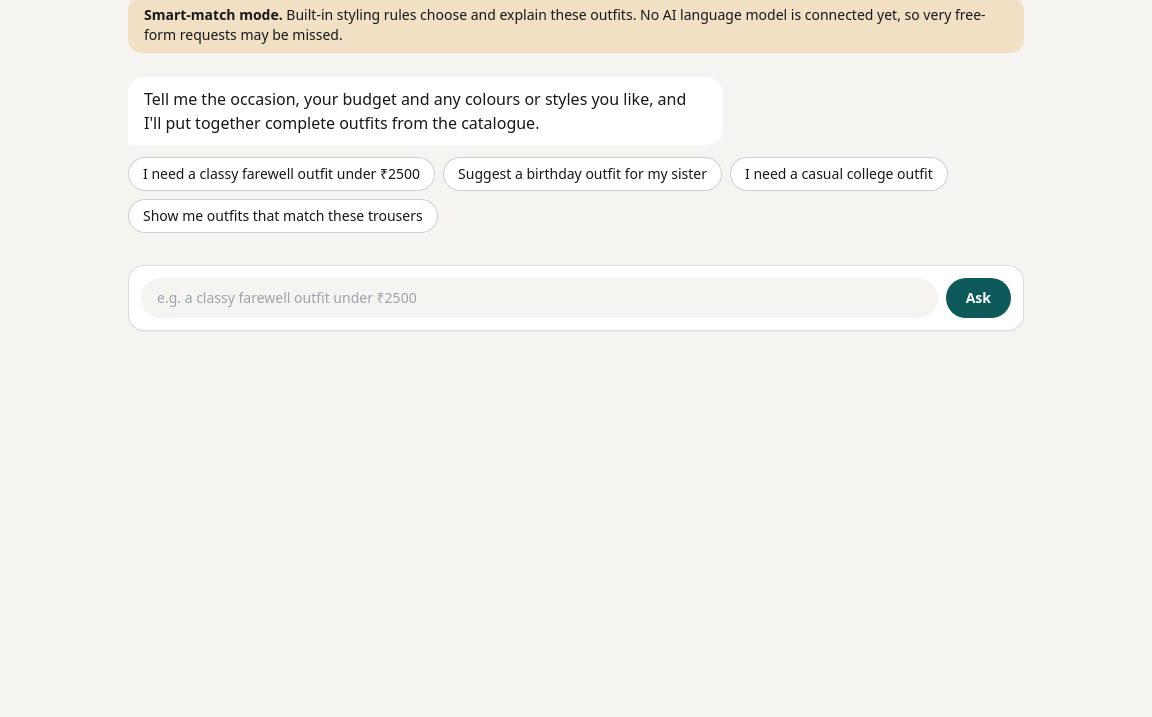
Test case: AI stylist chat › asks who it's for, then builds outfits within the stated budget
Type "classy farewell outfit under ₹2500" into the field named "Describe the outfit" at (539, 298), box [141,278,938,318]
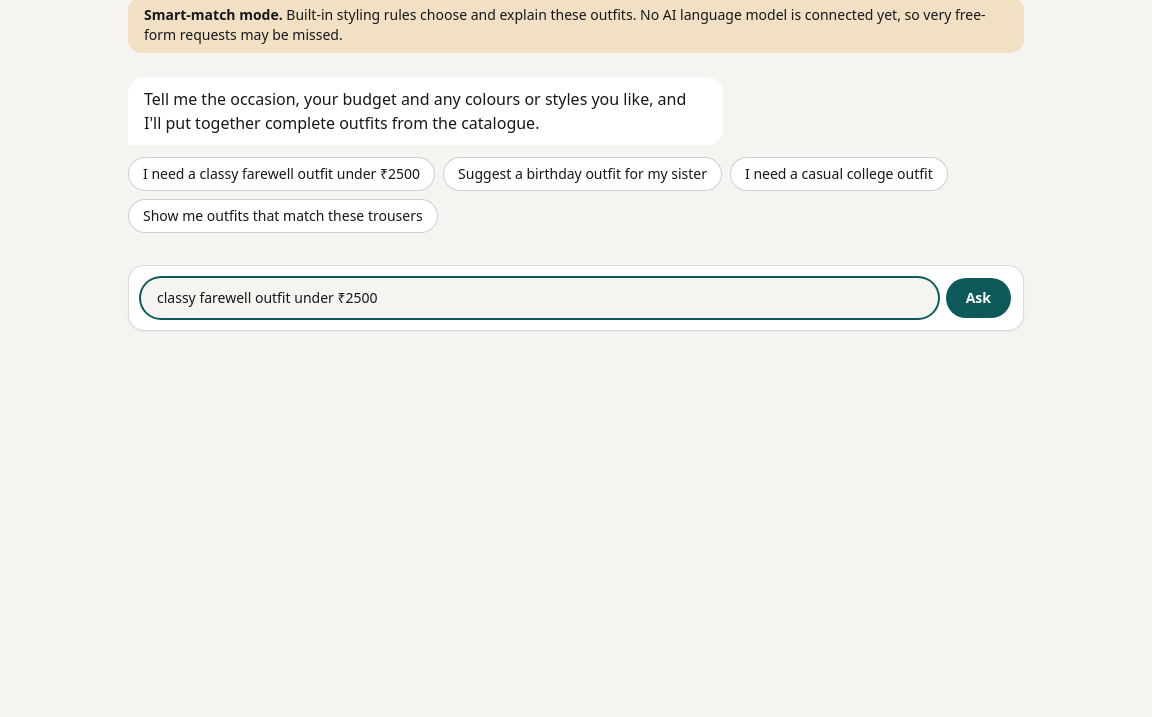
Click the button "Ask" at (978, 298), box [946,278,1011,318]
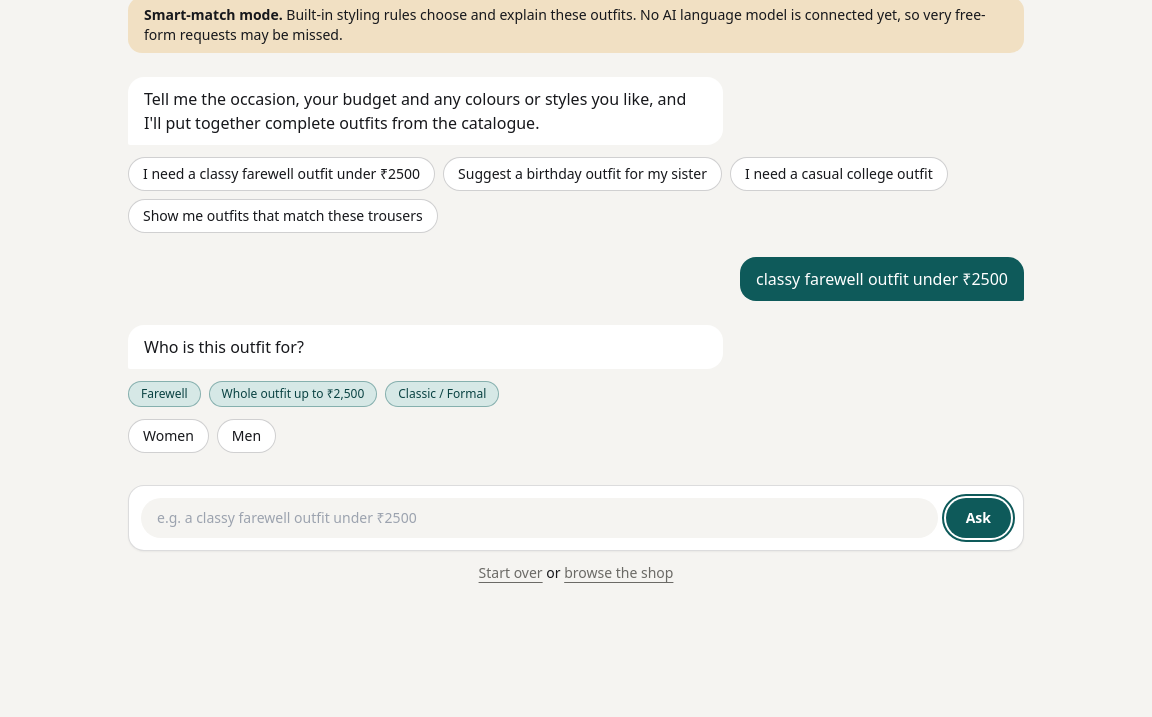
Expected: the text "Who is this outfit for?" is shown, [128,325,723,369]
Expected: the list item "Farewell" is shown, [128,381,201,407]
Click the button "women" at (168, 436), box [128,419,209,453]
(page scrolled)
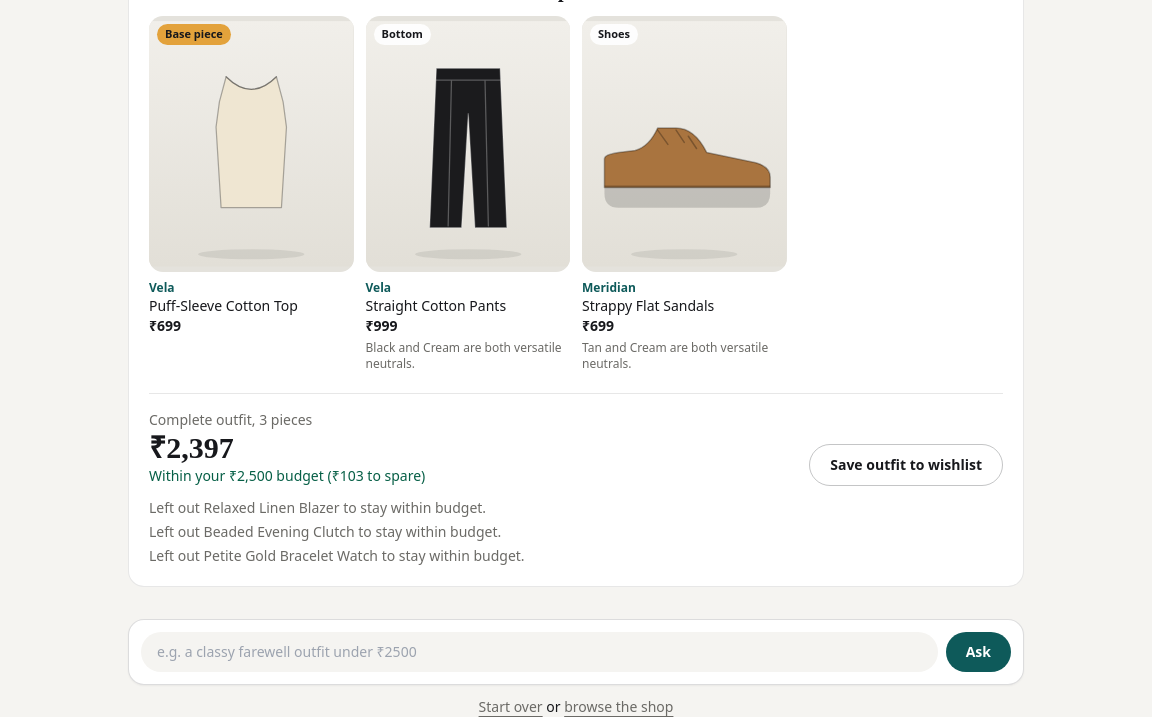
Expected: the text "Within your ₹2,500 budget (₹103 to spare)" is shown, [149,466,425,486]
